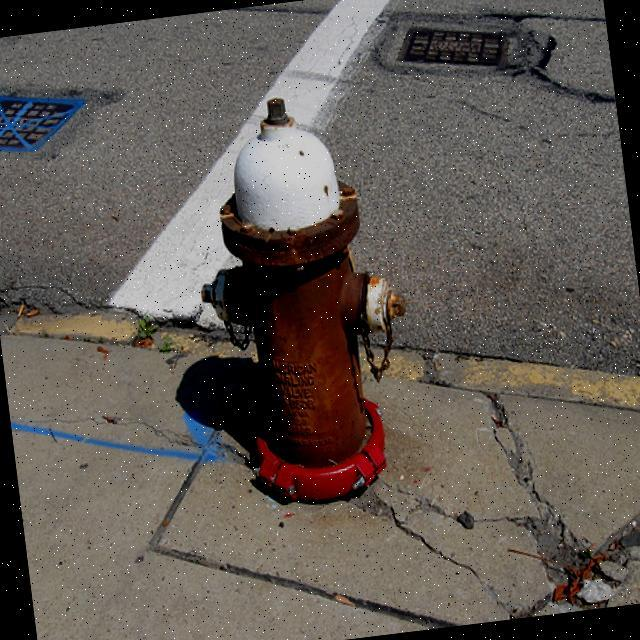fire_hydrant: (175, 76, 432, 515)
